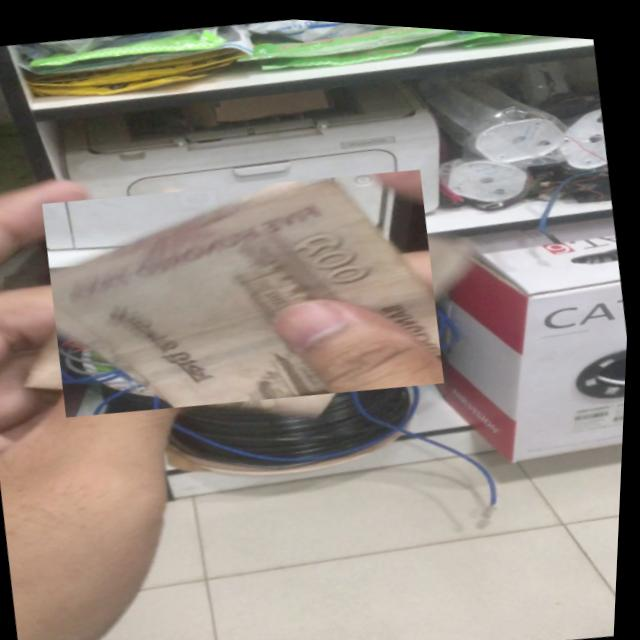Taka: (37, 144, 455, 436)
